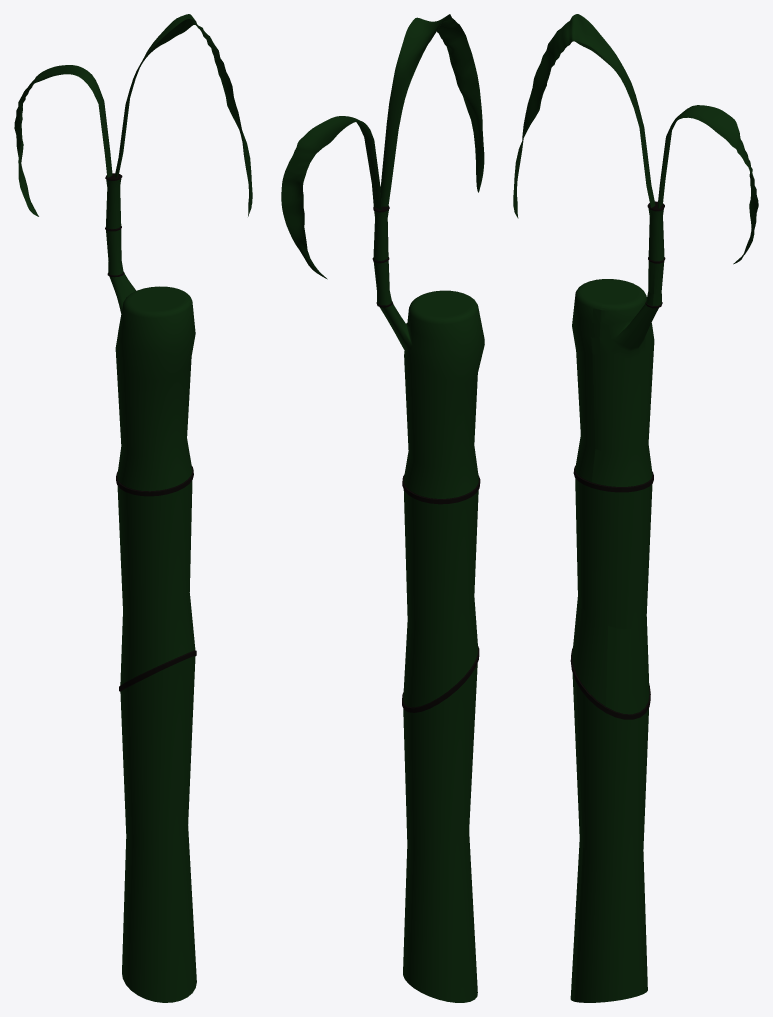
The model's file is bamboo1.FBX.
The picture shows the model from 3 angles, left to right: view 1: azimuth 90°, elevation 25°; view 2: azimuth 150°, elevation 25°; view 3: azimuth 270°, elevation 25°; orthographic projection. The views are drawn at different scales.
Visible parts, largest first — view 1: arch24_064, arch24_071, arch24_062, arch24_075, arch24_076, arch24_066, arch24_070; view 2: arch24_064, arch24_071, arch24_062, arch24_075, arch24_076, arch24_066, arch24_070, arch24_063, arch24_061; view 3: arch24_064, arch24_062, arch24_071, arch24_075, arch24_076, arch24_066, arch24_070, arch24_063.
Part boxes in pixels (x1=…): arch24_064: x1=120, y1=656, x2=196, y2=1002; arch24_071: x1=109, y1=272, x2=195, y2=491; arch24_062: x1=117, y1=480, x2=195, y2=685; arch24_075: x1=114, y1=14, x2=252, y2=216; arch24_076: x1=14, y1=65, x2=112, y2=216; arch24_066: x1=106, y1=179, x2=121, y2=228; arch24_070: x1=106, y1=229, x2=123, y2=274; arch24_064: x1=403, y1=663, x2=477, y2=1002; arch24_071: x1=379, y1=290, x2=484, y2=498; arch24_062: x1=403, y1=489, x2=478, y2=707; arch24_075: x1=380, y1=14, x2=484, y2=206; arch24_076: x1=281, y1=116, x2=381, y2=279; arch24_066: x1=373, y1=210, x2=388, y2=260; arch24_070: x1=373, y1=260, x2=391, y2=305; arch24_063: x1=402, y1=646, x2=479, y2=712; arch24_061: x1=402, y1=474, x2=480, y2=504; arch24_064: x1=570, y1=673, x2=648, y2=1002; arch24_062: x1=572, y1=478, x2=652, y2=714; arch24_071: x1=572, y1=279, x2=658, y2=486; arch24_075: x1=513, y1=14, x2=655, y2=218; arch24_076: x1=657, y1=105, x2=758, y2=264; arch24_066: x1=648, y1=208, x2=664, y2=261; arch24_070: x1=646, y1=261, x2=664, y2=305; arch24_063: x1=570, y1=648, x2=650, y2=719.
Bounding box in the file's own units: 31.95 × 229 × 51.24.
